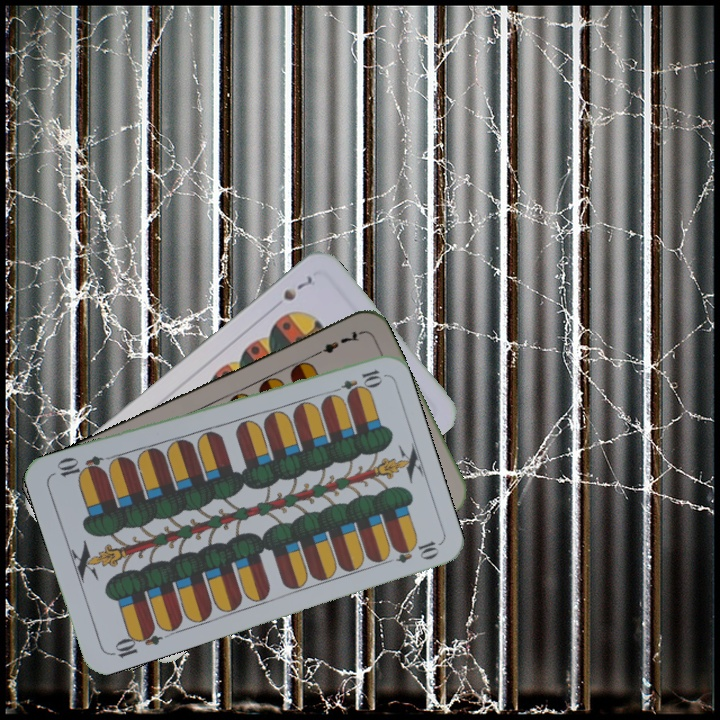E10: (106, 623, 164, 661), (326, 365, 385, 398)
E7: (308, 327, 363, 360)
S7: (279, 272, 316, 304)
